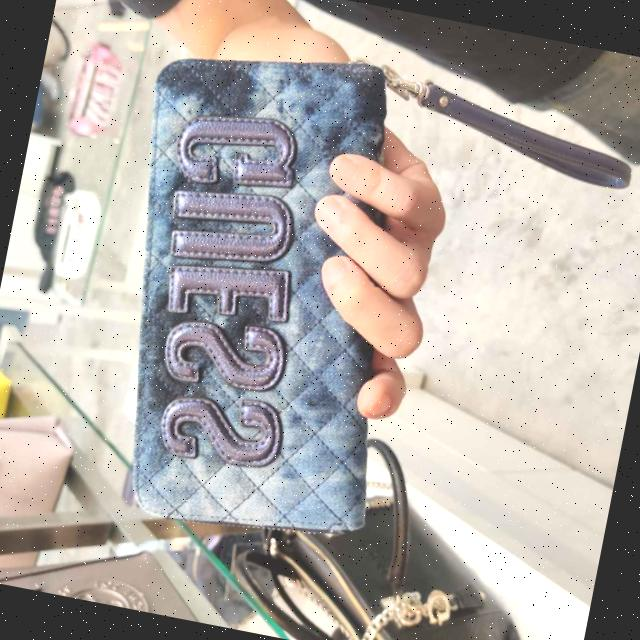handbag: (69, 23, 452, 554)
